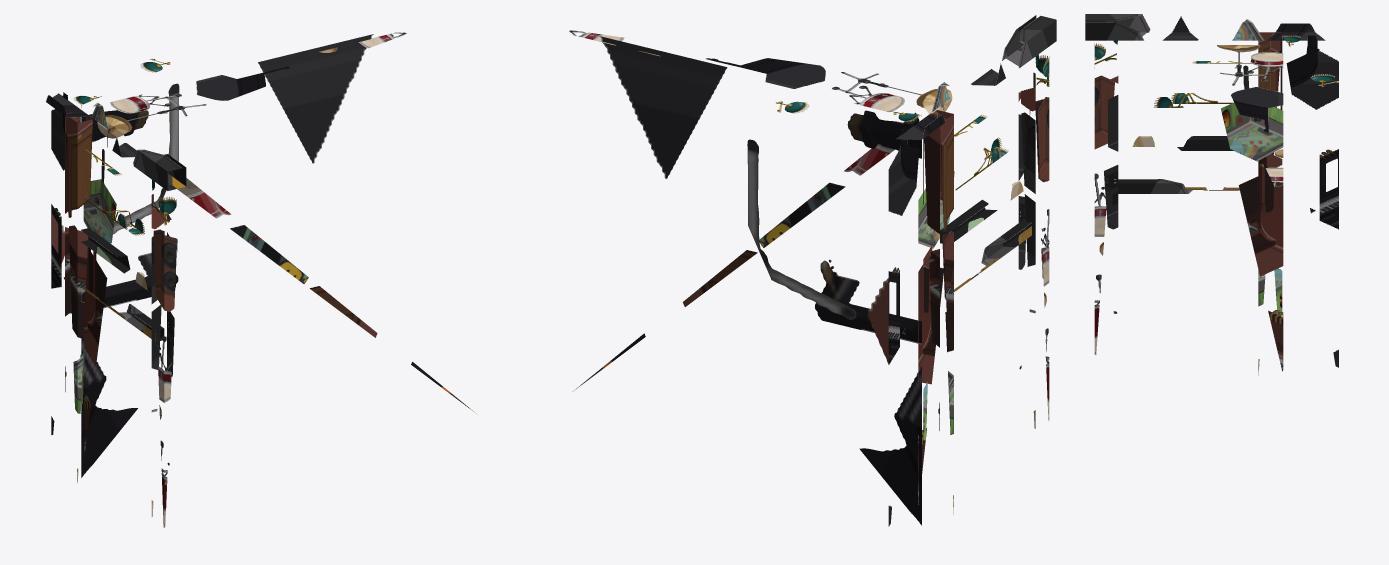
3 views of the same model, side by side, from view 1: azimuth 30°, elevation 25°; view 2: azimuth 150°, elevation 25°; view 3: azimuth 270°, elevation 25° (orthographic). The views are drawn at different scales.
Bounding box in the file's own units: 1.8 × 1.7 × 1.22.
